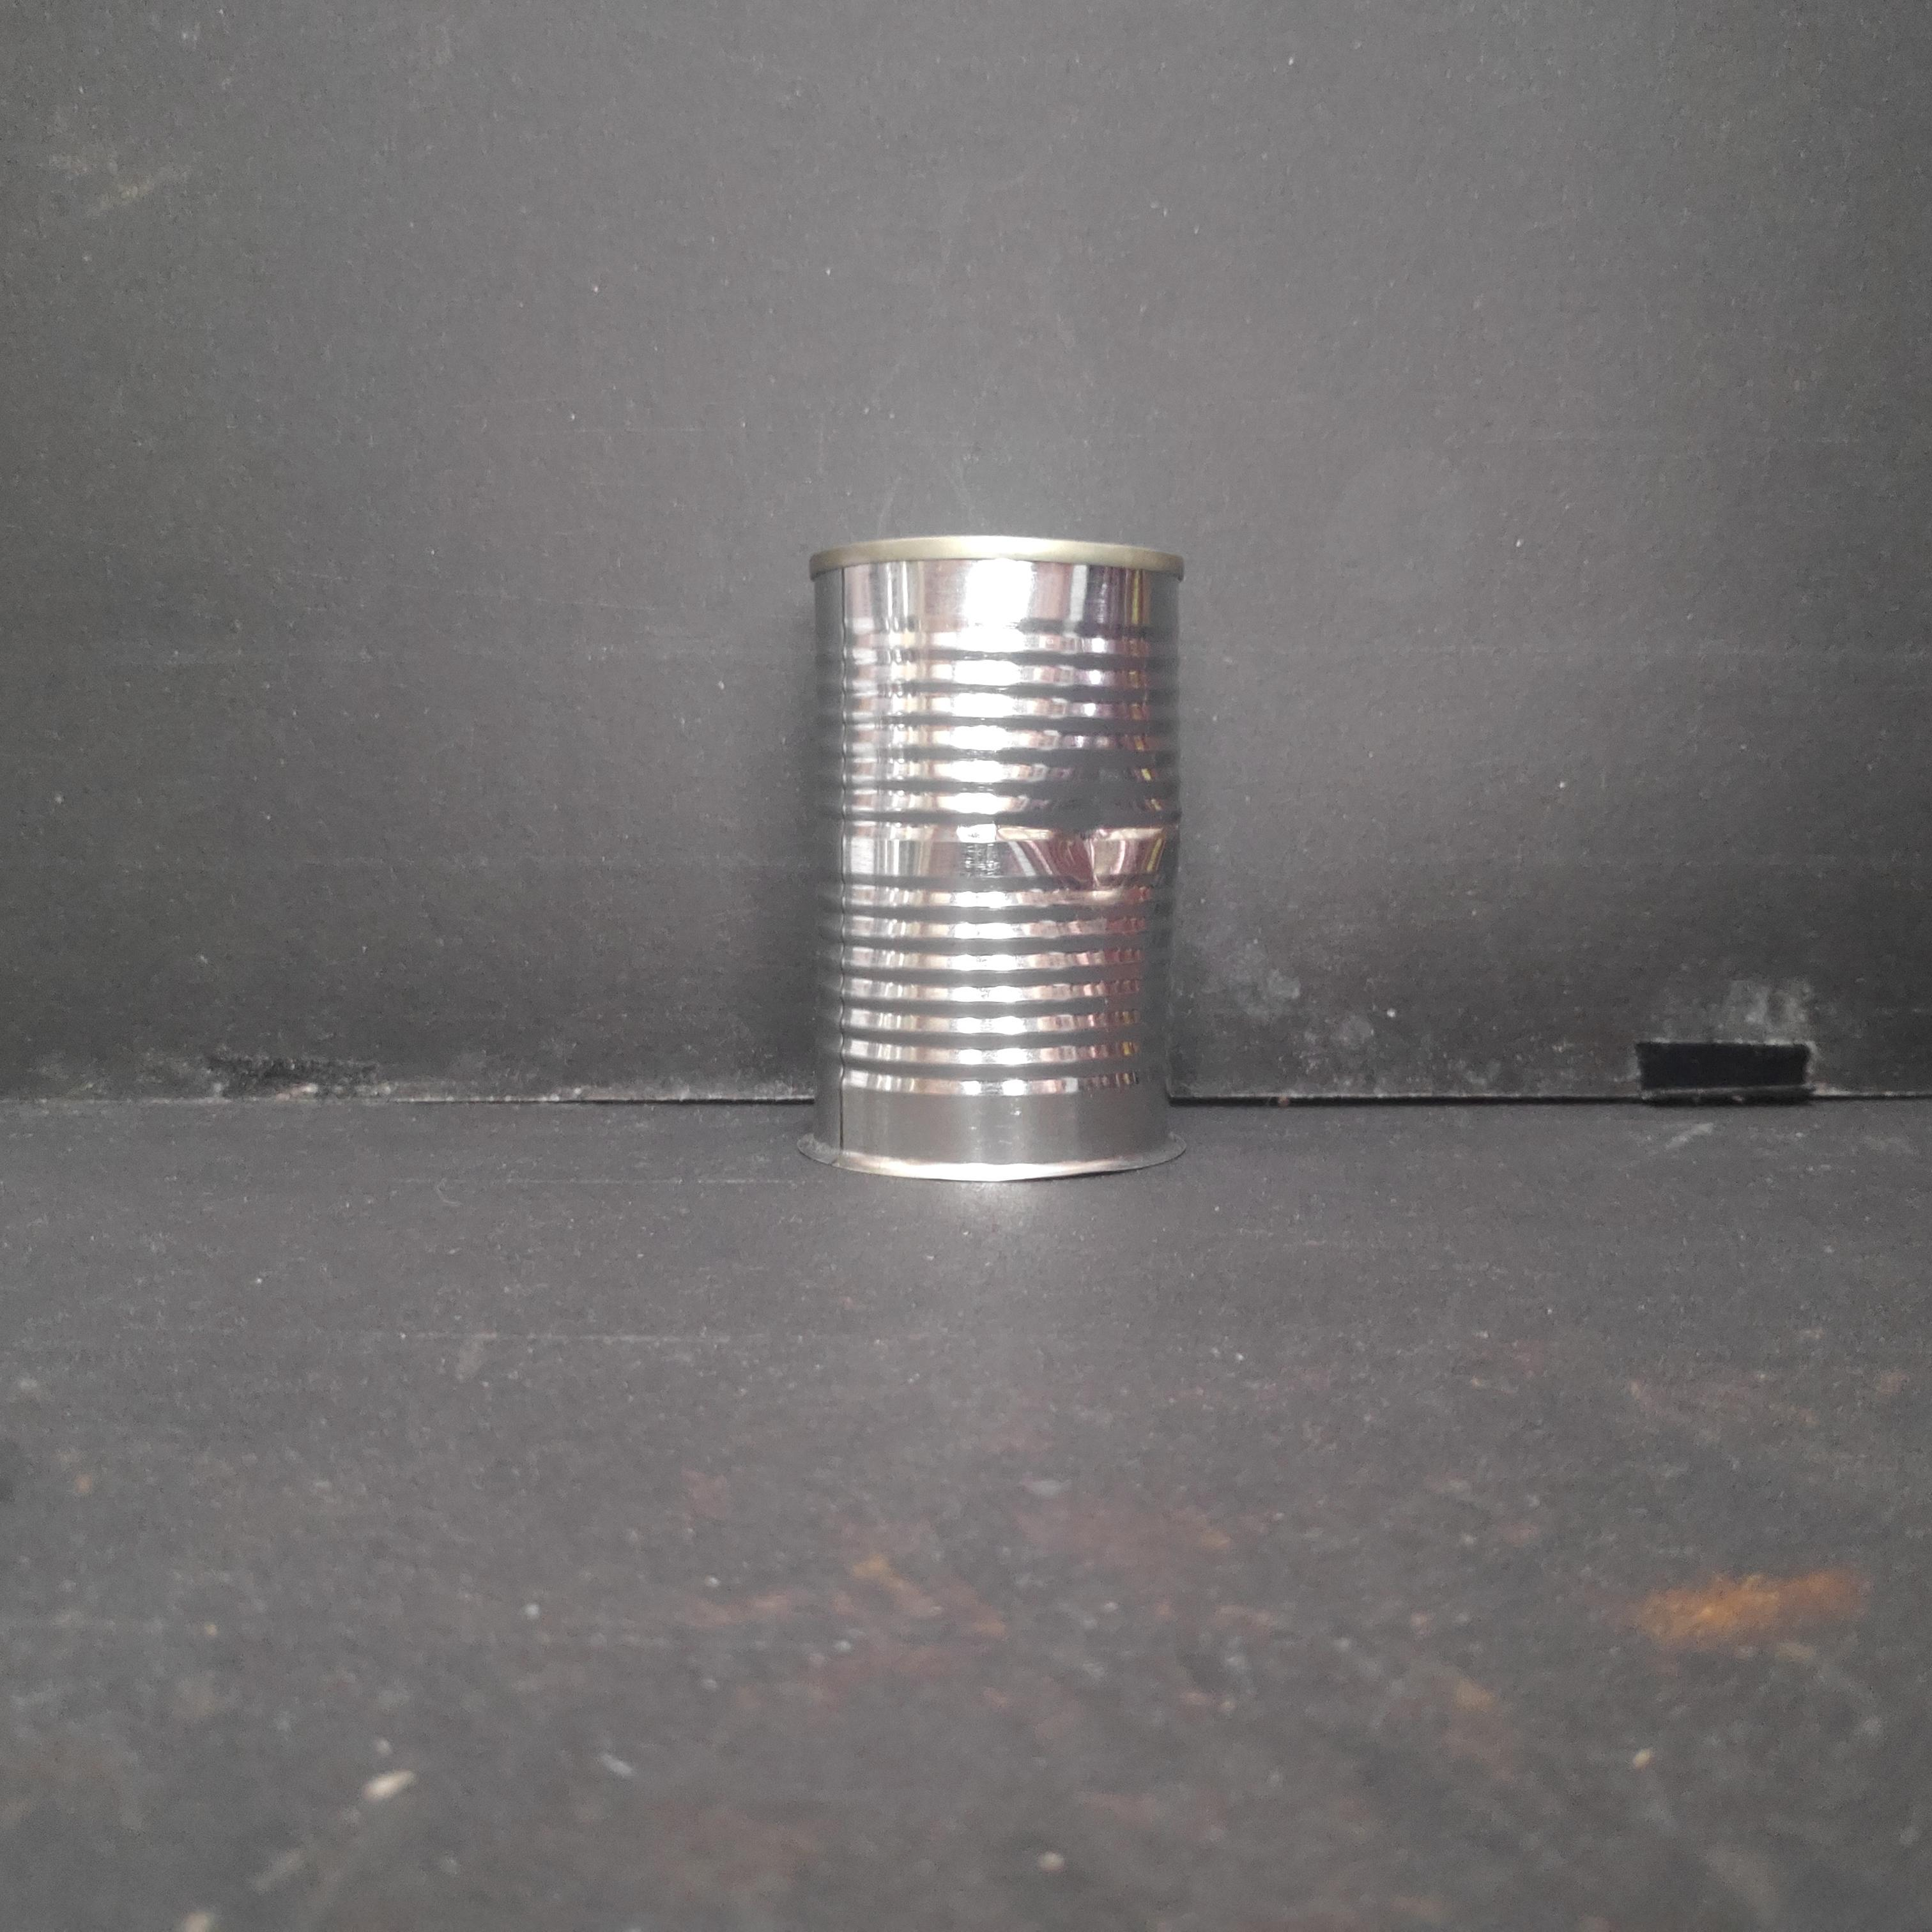Minor Defect: (796, 527, 1201, 1189)
